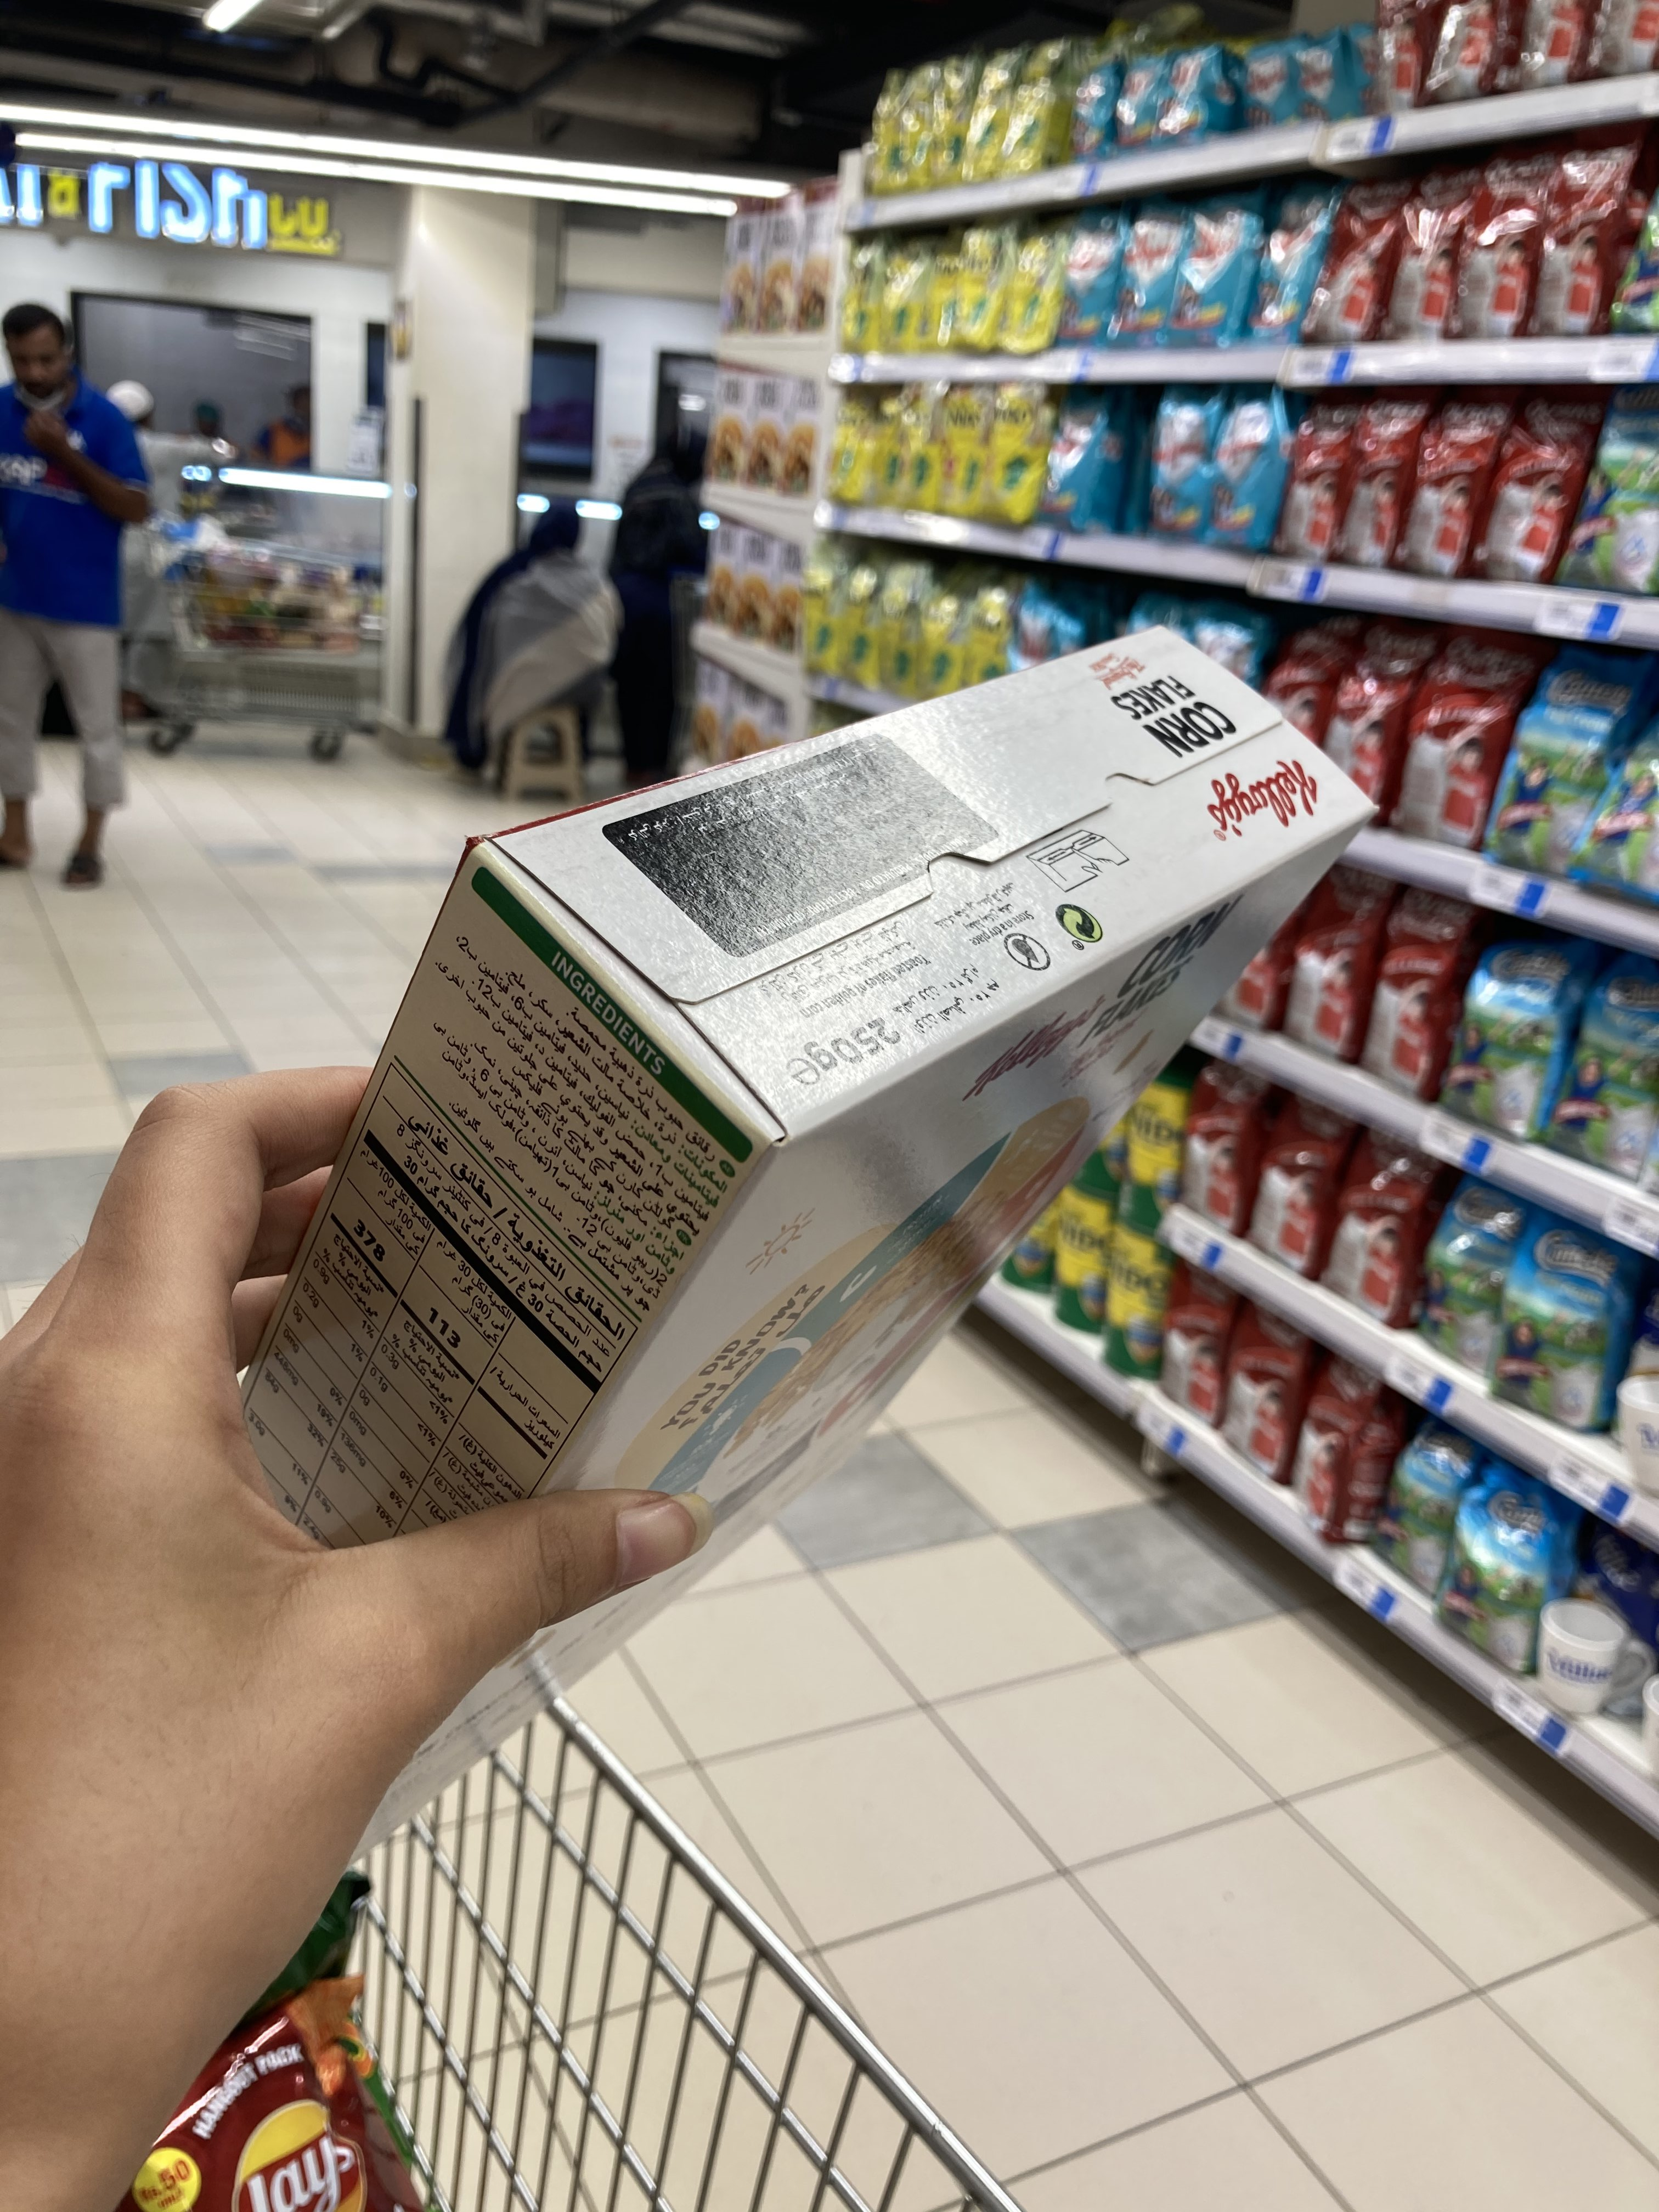Kellogg's Corn Flakes: (338, 624, 1377, 1825)
